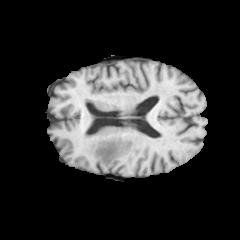glioma: (85, 130, 136, 165)
